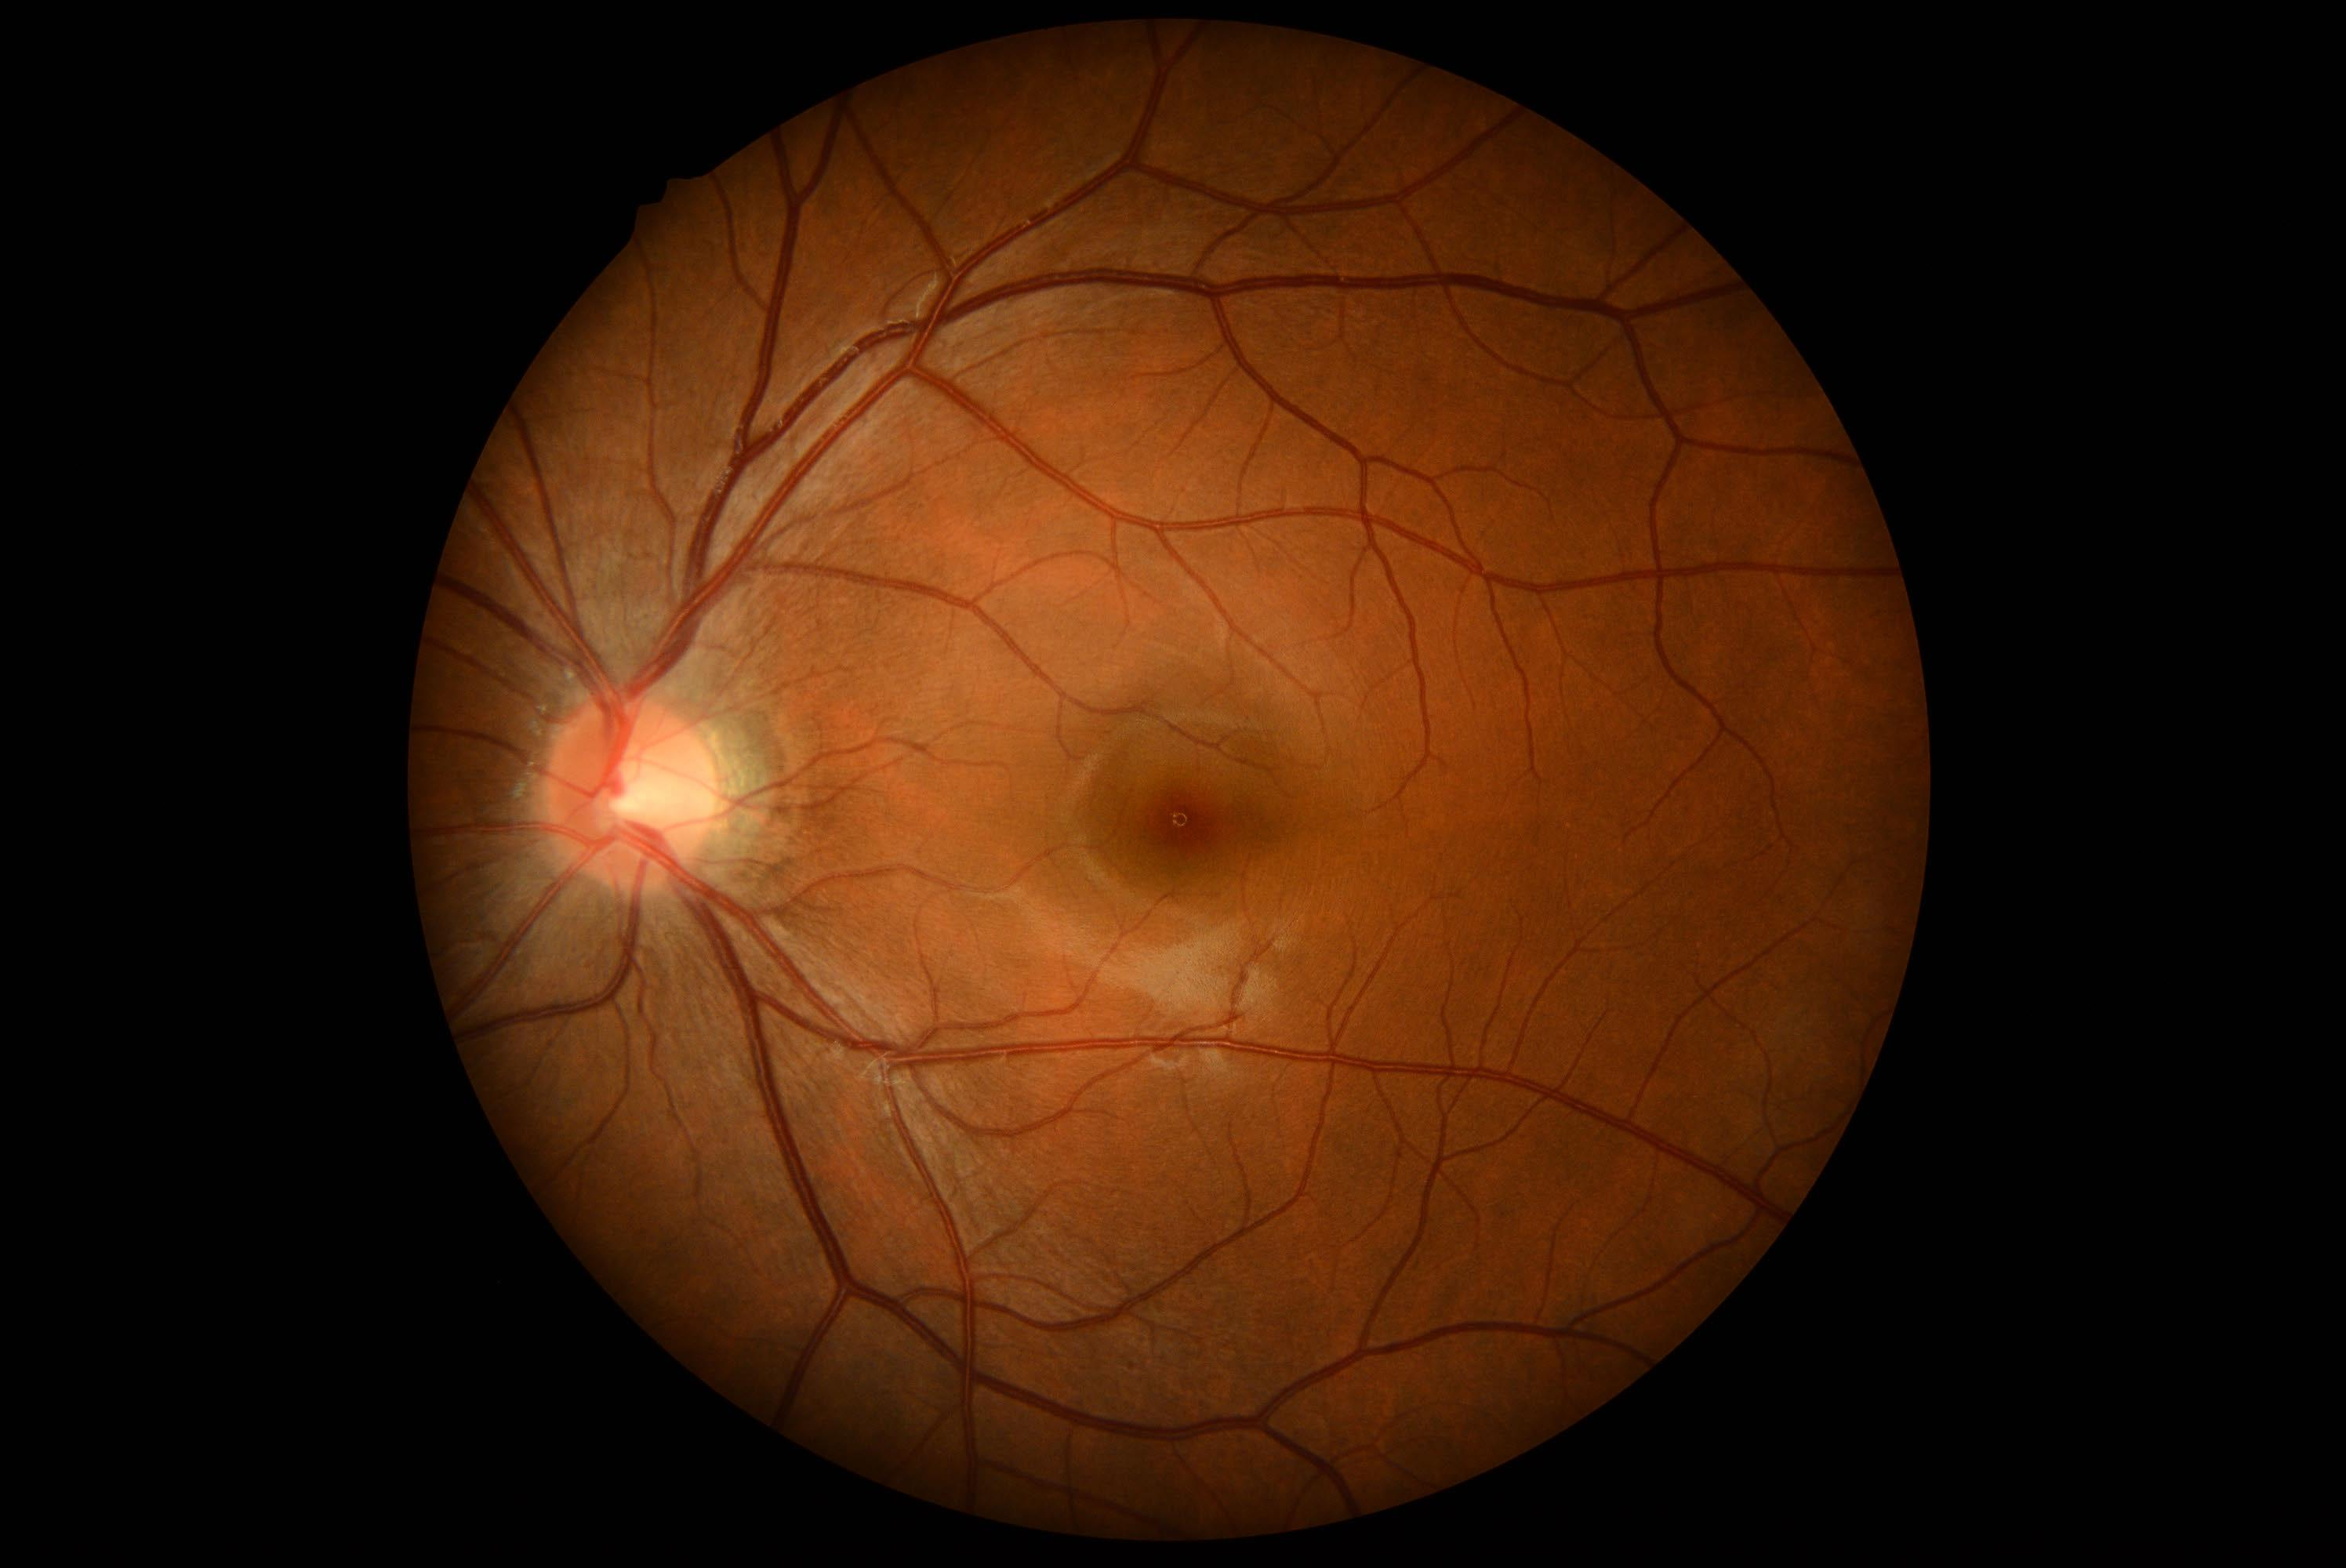Fovea: (1095, 737, 1265, 903)
